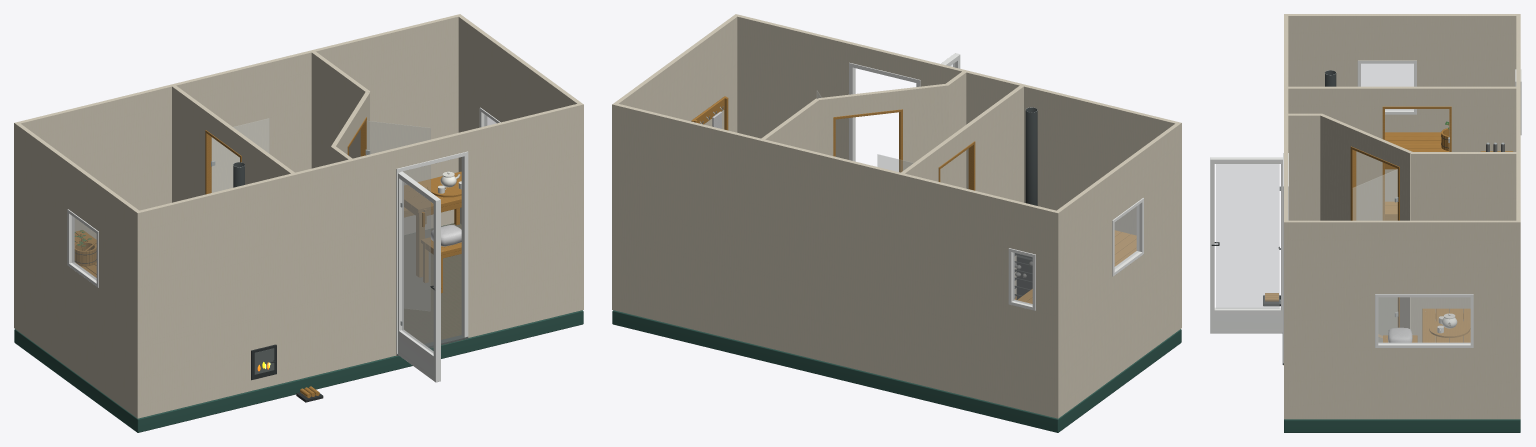
3 renders of one model, left to right at view 1: azimuth 30°, elevation 25°; view 2: azimuth 150°, elevation 25°; view 3: azimuth 270°, elevation 25°, orthographic. The views are drawn at different scales.
Visible parts, largest first — view 1: Wall front band 2, Wall front band 5, Wall front band 6, Wall front band 7, Wall front band 4, Wall front band 8, Wall front band 1, Wall rear band 7, Wall rear band 8, Foundation, Wall rear band 6, Wall rear band 5 (+35 smaller); view 2: Wall rear band 2, Wall rear band 7, Wall rear band 4, Wall rear band 1, Wall rear band 5, Wall rear band 6, Wall rear band 8, Wall front band 8, Foundation, Wall front band 7, Wall rear band 0, Wall front band 6 (+28 smaller); view 3: Single PVC glass panel, Wall right band 2, Wall left band 7, Wall right band 7, Wall right band 6, Wall right band 1, Wall top_12_0003 band 8, Wall right band 8, Wall left band 8, Wall left band 6, Window glazing.002, Wall right band 4 (+38 smaller).
Boxes of the visible parts, x1,y1,x2,y2 form: Wall front band 2: (135, 240, 583, 379); Wall front band 5: (135, 179, 583, 315); Wall front band 6: (135, 151, 583, 287); Wall front band 7: (135, 123, 583, 259); Wall front band 4: (135, 207, 583, 343); Wall front band 8: (135, 103, 583, 231); Wall front band 1: (135, 270, 583, 405); Wall rear band 7: (14, 35, 458, 170); Wall rear band 8: (14, 14, 461, 142); Foundation: (14, 223, 583, 432); Wall rear band 6: (14, 63, 458, 198); Wall rear band 5: (14, 91, 458, 226); Wall rear band 2: (612, 240, 1060, 379); Wall rear band 7: (612, 123, 1060, 259); Wall rear band 4: (612, 207, 1060, 343); Wall rear band 1: (612, 270, 1060, 405); Wall rear band 5: (612, 179, 1060, 315); Wall rear band 6: (612, 151, 1060, 287); Wall rear band 8: (612, 103, 1060, 231); Wall front band 8: (734, 14, 1181, 142); Foundation: (612, 310, 1181, 432); Wall front band 7: (737, 35, 1181, 170); Wall rear band 0: (612, 297, 1060, 418); Wall front band 6: (737, 63, 1181, 198); Single PVC glass panel: (1216, 164, 1279, 308); Wall right band 2: (1288, 352, 1516, 381); Wall left band 7: (1288, 33, 1516, 60); Wall right band 7: (1288, 240, 1516, 267); Wall right band 6: (1288, 267, 1516, 293); Wall right band 1: (1288, 381, 1516, 406); Wall top_12_0003 band 8: (1288, 86, 1516, 106); Wall right band 8: (1288, 220, 1516, 240); Wall left band 8: (1288, 14, 1516, 33); Wall left band 6: (1288, 60, 1516, 86); Window glazing.002: (1378, 297, 1470, 343); Wall right band 4: (1288, 320, 1516, 347).
Bounding box in the file's own units: 5.02 × 2.36 × 3.15.
Materials: 34 (15 with a texture image).
